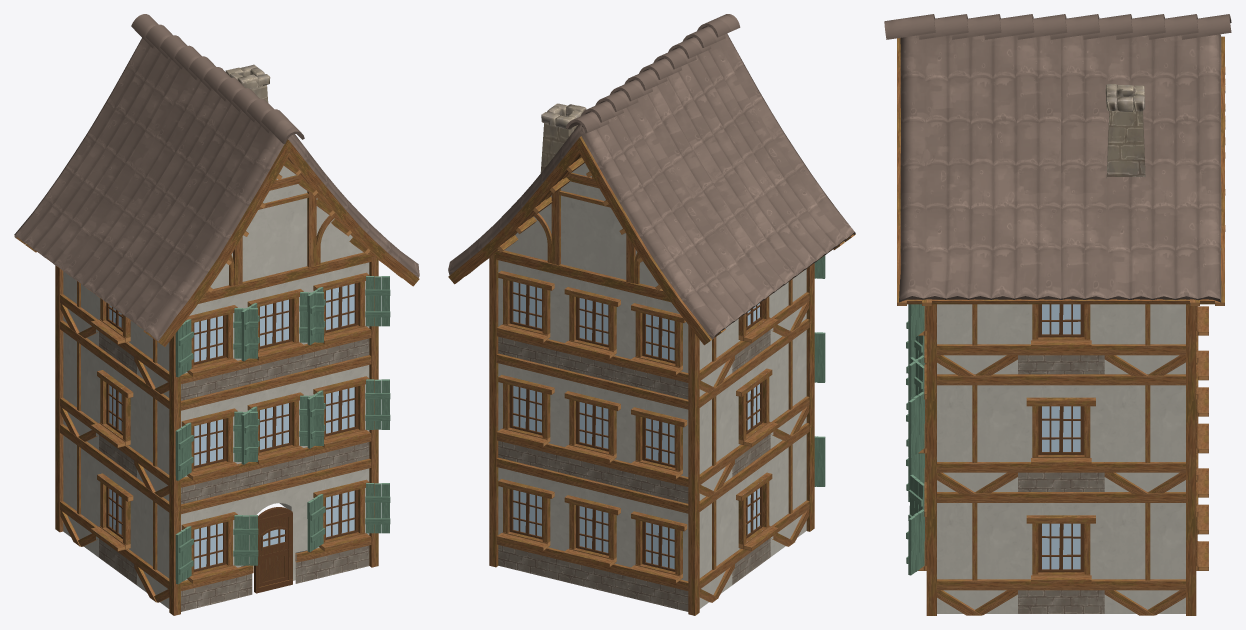
Rendered from house_cream.glb.
3 views of the same model, side by side, from view 1: azimuth 30°, elevation 25°; view 2: azimuth 150°, elevation 25°; view 3: azimuth 270°, elevation 25° (orthographic). The views are drawn at different scales.
Visible parts, largest first — view 1: Wall_Plaster_Window_Wide_Flat, Roof_RoundTiles_6x6, Window_Wide_Flat1, WindowShutters_Wide_Flat_Open, Roof_Front_Brick6, Prop_Chimney, Wall_Plaster_Door_Round; view 2: Wall_Plaster_Window_Wide_Flat, Roof_RoundTiles_6x6, Window_Wide_Flat1, Roof_Front_Brick6, Prop_Chimney, WindowShutters_Wide_Flat_Open; view 3: Roof_RoundTiles_6x6, Wall_Plaster_Window_Wide_Flat, Window_Wide_Flat1, WindowShutters_Wide_Flat_Open, Prop_Chimney.
Boxes of the visible parts, left/top/right/bottom form: Wall_Plaster_Window_Wide_Flat: left=14, top=114, right=419, bottom=611; Roof_RoundTiles_6x6: left=14, top=14, right=419, bottom=341; Window_Wide_Flat1: left=55, top=160, right=378, bottom=615; WindowShutters_Wide_Flat_Open: left=175, top=276, right=390, bottom=584; Roof_Front_Brick6: left=210, top=166, right=363, bottom=288; Prop_Chimney: left=225, top=64, right=270, bottom=102; Wall_Plaster_Door_Round: left=241, top=550, right=306, bottom=597; Wall_Plaster_Window_Wide_Flat: left=448, top=136, right=855, bottom=611; Roof_RoundTiles_6x6: left=448, top=14, right=855, bottom=339; Window_Wide_Flat1: left=489, top=157, right=814, bottom=615; Roof_Front_Brick6: left=504, top=163, right=658, bottom=286; Prop_Chimney: left=540, top=103, right=586, bottom=172; WindowShutters_Wide_Flat_Open: left=814, top=255, right=825, bottom=486; Roof_RoundTiles_6x6: left=884, top=14, right=1231, bottom=302; Wall_Plaster_Window_Wide_Flat: left=897, top=36, right=1224, bottom=615; Window_Wide_Flat1: left=918, top=67, right=1225, bottom=615; WindowShutters_Wide_Flat_Open: left=906, top=304, right=924, bottom=575; Prop_Chimney: left=1105, top=84, right=1145, bottom=177.
Size of the model in its own units: 8.25 by 13.89 by 8.03.
7 materials, 6 textured.
